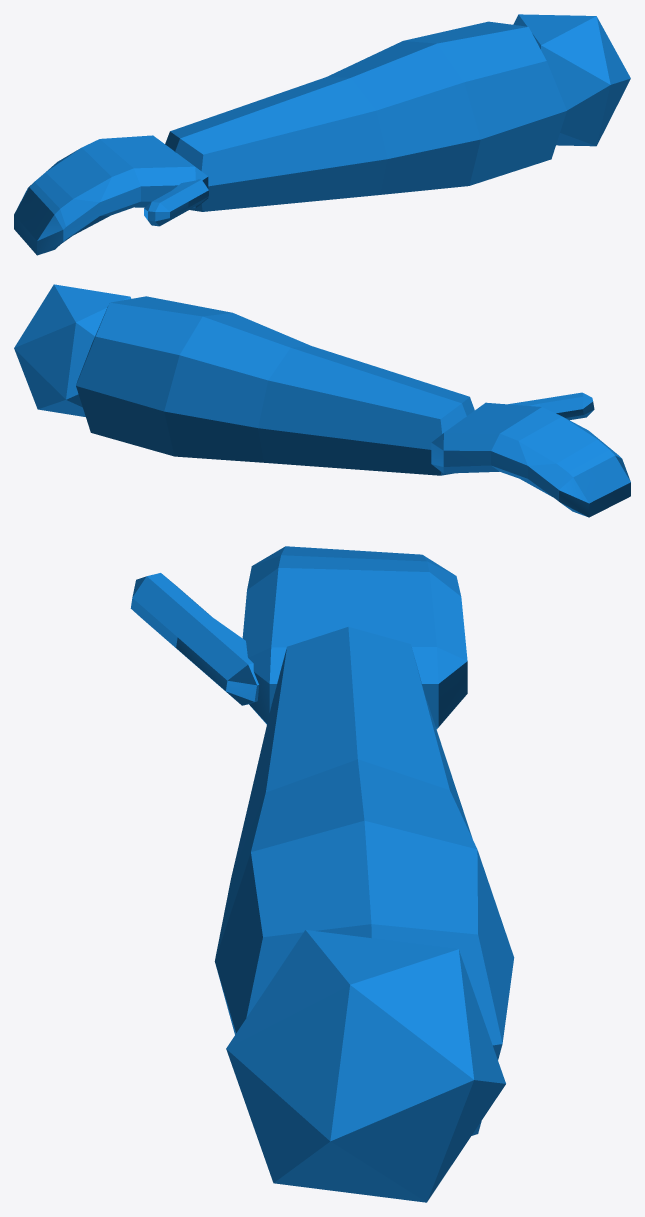
File: LEFT_FOREARM.fbx
3 renders of one model, top to bottom at view 1: azimuth 30°, elevation 25°; view 2: azimuth 150°, elevation 25°; view 3: azimuth 270°, elevation 25°, orthographic. The views are drawn at different scales.
Parts seen in each view (by area): view 1: RIGHT_ELBOW.001; view 2: RIGHT_ELBOW.001; view 3: RIGHT_ELBOW.001.
Boxes of the visible parts, <box> form: RIGHT_ELBOW.001: <box>14,14,630,255</box>; RIGHT_ELBOW.001: <box>14,284,630,517</box>; RIGHT_ELBOW.001: <box>130,546,514,1202</box>.
Bounding box in the file's own units: 0.7486 × 0.1642 × 0.2105.
